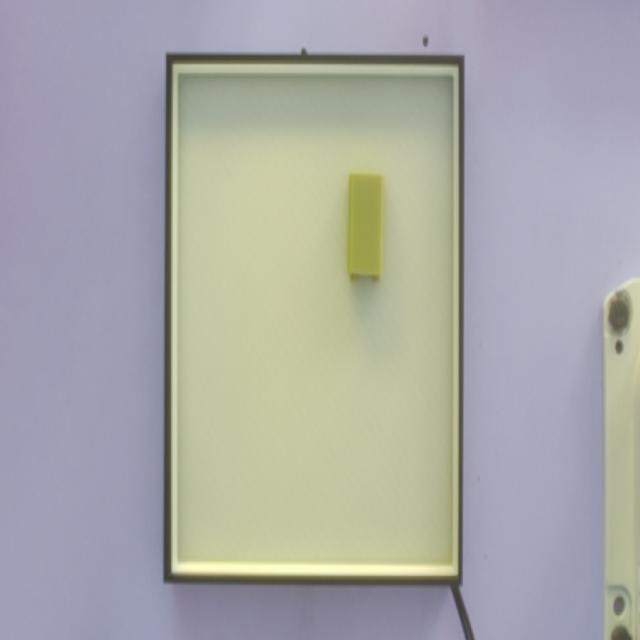bateria: (346, 177, 384, 286)
mesa: (163, 55, 464, 586)
